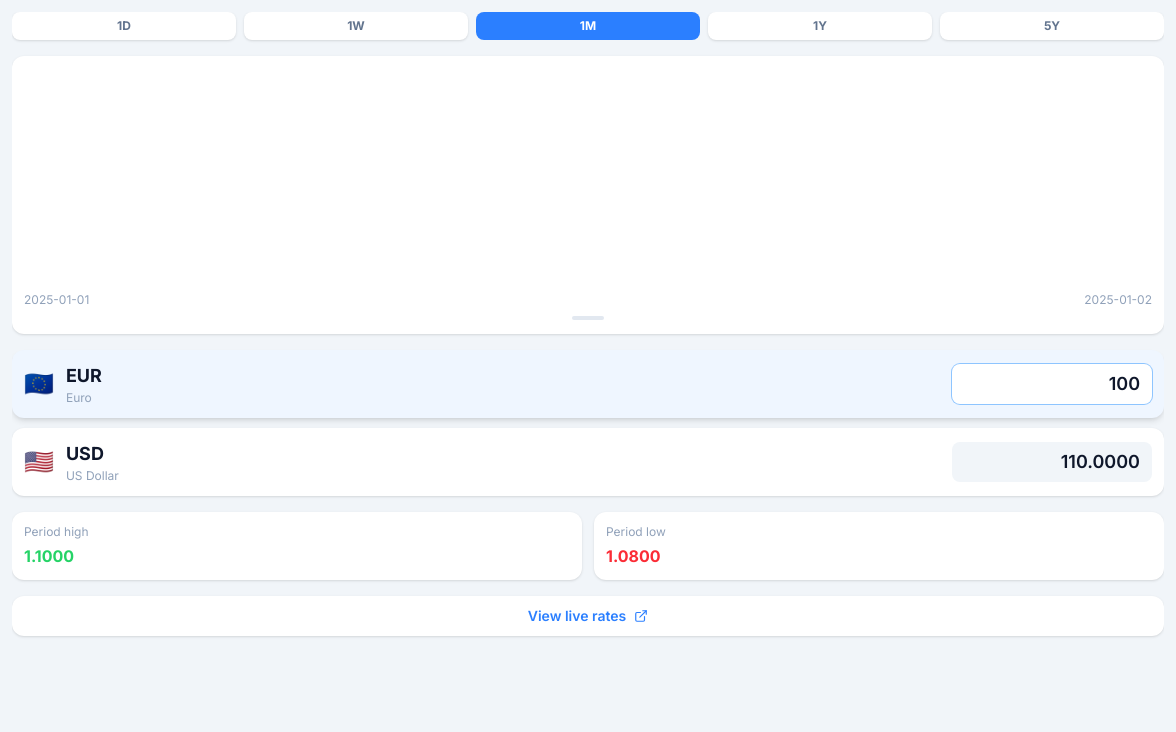
Test: RateChart conversion card › sanitises non-numeric input characters
Replace the text in the field named "Amount in EUR" with "12.34abc": (1052, 384) [952, 364, 1152, 404]
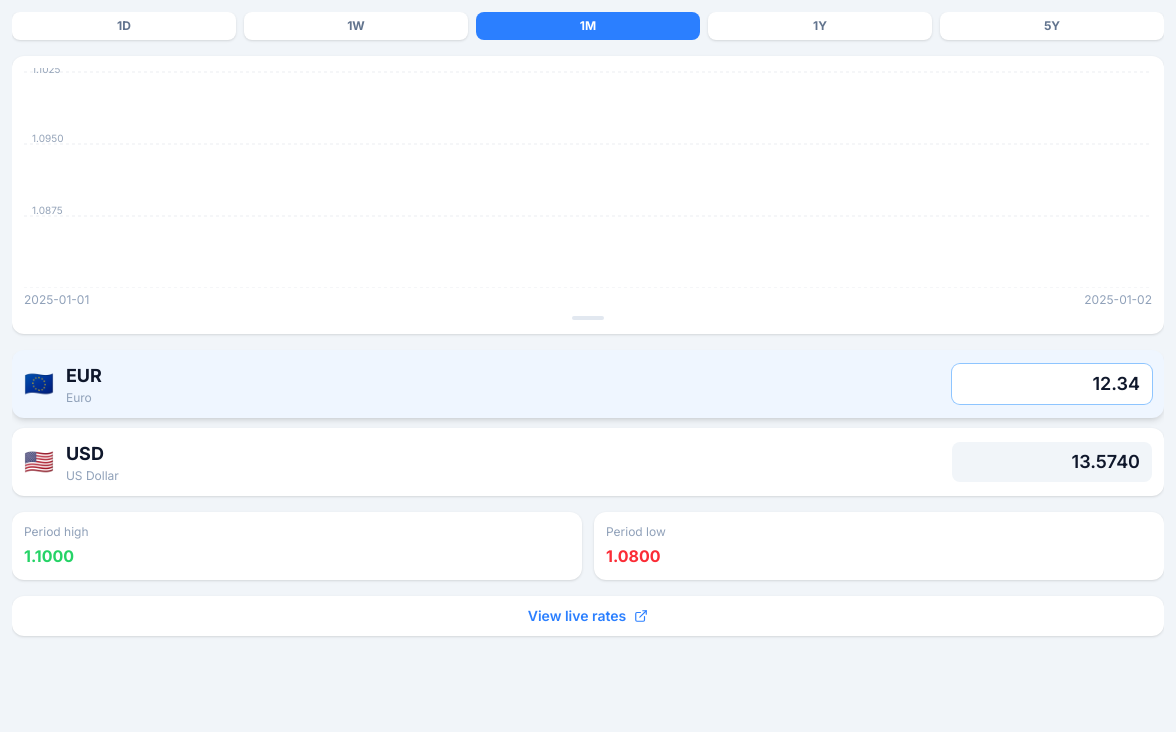
expect the field named "Amount in EUR" holds "12.34": met
Replace the text in the field named "Amount in EUR" with "1.2.3": (1052, 384) [952, 364, 1152, 404]
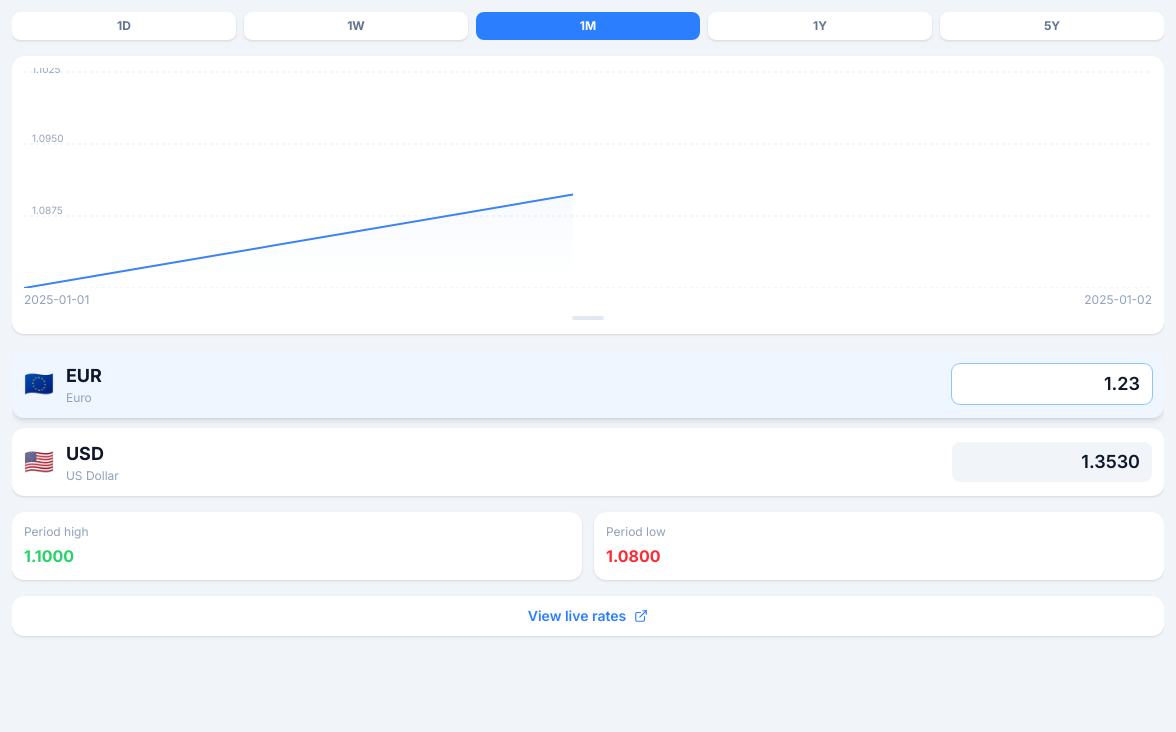
expect the field named "Amount in EUR" holds "1.23": met, box [952, 364, 1152, 404]
